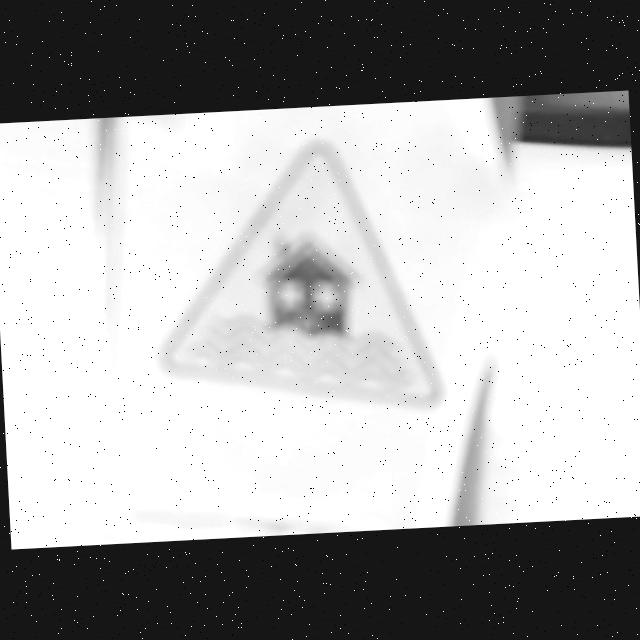Tsunami: (164, 140, 442, 405)
